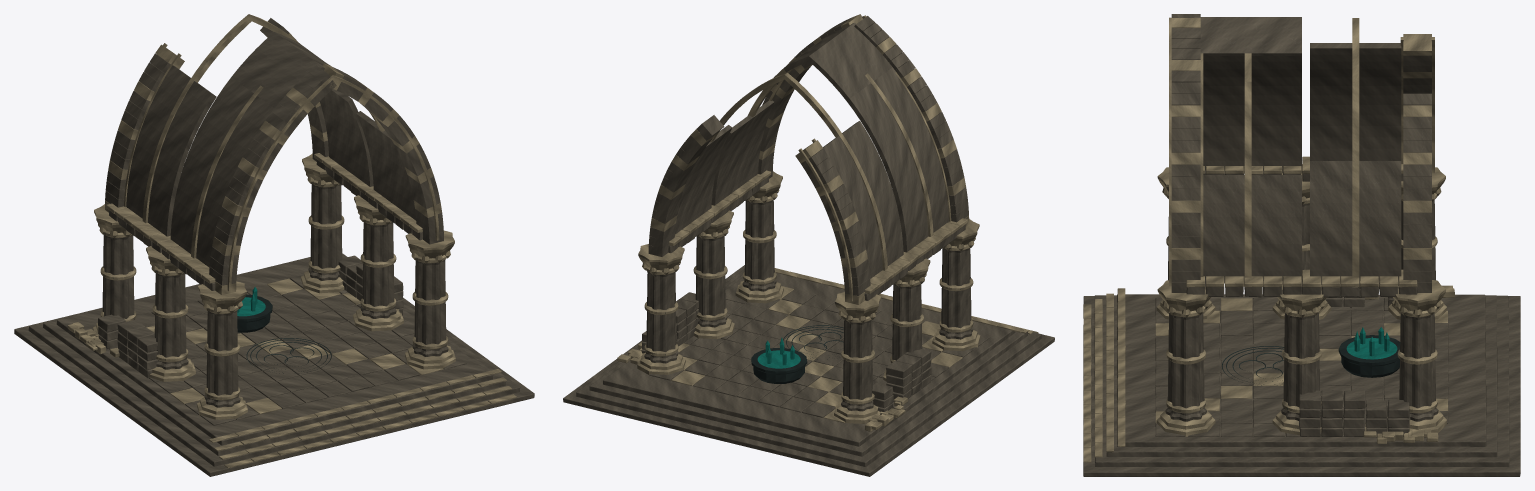
Rendered from OasisPavilion.fbx.
The picture shows the model from 3 angles, left to right: view 1: azimuth 30°, elevation 25°; view 2: azimuth 150°, elevation 25°; view 3: azimuth 270°, elevation 25°; orthographic projection. The views are drawn at different scales.
Parts seen in each view (by area): view 1: OasisPavilion_LOD0; view 2: OasisPavilion_LOD0; view 3: OasisPavilion_LOD0.
Boxes of the visible parts, x1,y1,x2,y2 form: OasisPavilion_LOD0: [14, 14, 534, 476]; OasisPavilion_LOD0: [563, 14, 1054, 476]; OasisPavilion_LOD0: [1083, 14, 1520, 476].
Size of what is drawn, in the model's own units: 12.81 by 12.63 by 13.41.
4 materials, 4 textured.
